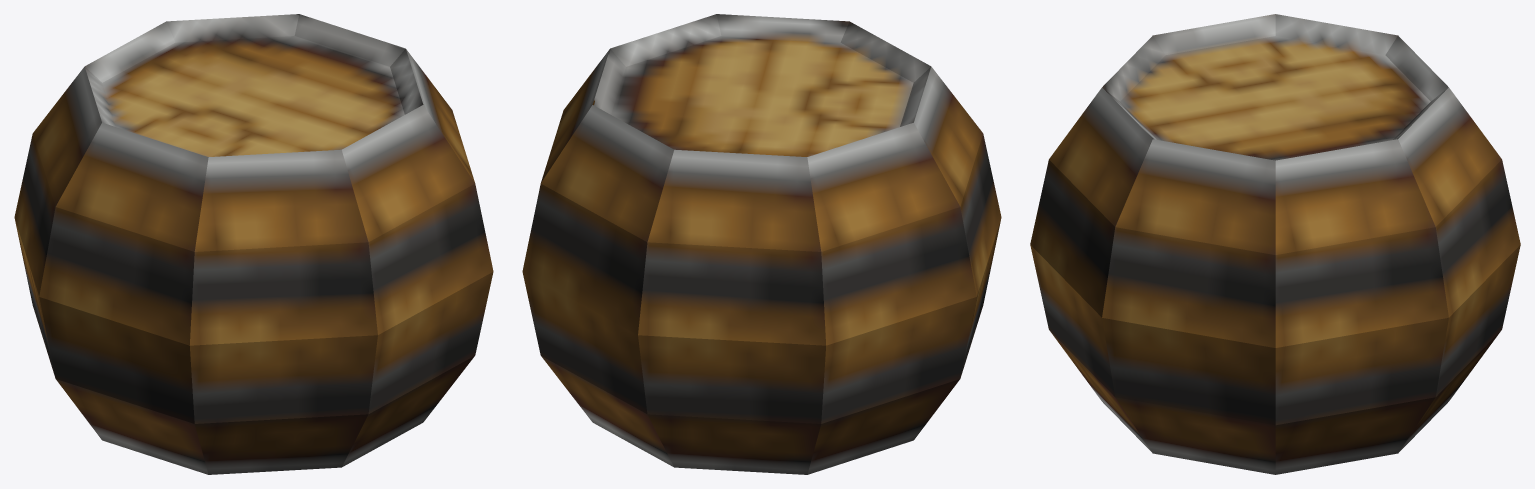
Rendered from barrel.obj.
3 views of the same model, side by side, from view 1: azimuth 30°, elevation 25°; view 2: azimuth 150°, elevation 25°; view 3: azimuth 270°, elevation 25° (orthographic).
Visible parts, largest first — view 1: Sphere; view 2: Sphere; view 3: Sphere.
Boxes of the visible parts, x1=… form: Sphere: x1=14, y1=14, x2=493, y2=474; Sphere: x1=522, y1=14, x2=1001, y2=474; Sphere: x1=1030, y1=14, x2=1520, y2=474.
Size of the model in its own units: 1 by 0.7071 by 1.
1 material, 1 textured.
